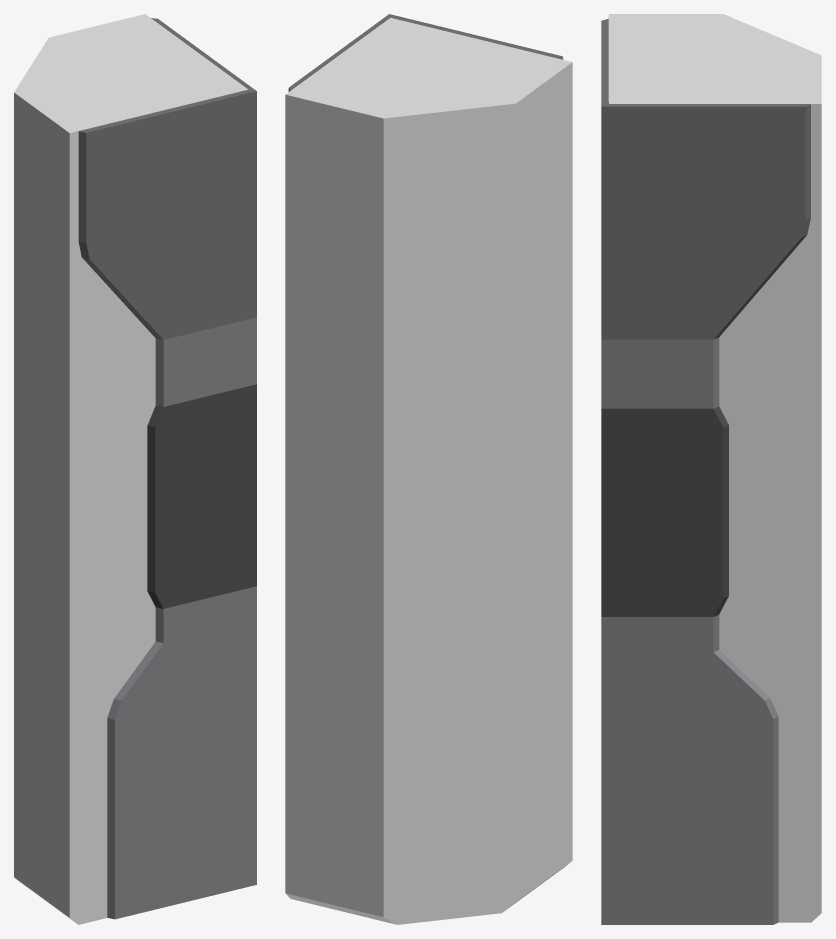
File: SM_Bld_Wall_Corner_Pillar_02.fbx
3 views of the same model, side by side, from view 1: azimuth 30°, elevation 25°; view 2: azimuth 150°, elevation 25°; view 3: azimuth 270°, elevation 25° (orthographic). The views are drawn at different scales.
Visible parts, largest first — view 1: SM_Bld_Wall_Corner_Pillar_02_LOD0, SM_Bld_Wall_Corner_Pillar_02_ConvexHulls; view 2: SM_Bld_Wall_Corner_Pillar_02_ConvexHulls, SM_Bld_Wall_Corner_Pillar_02_LOD0; view 3: SM_Bld_Wall_Corner_Pillar_02_LOD0, SM_Bld_Wall_Corner_Pillar_02_ConvexHulls.
Part boxes in pixels (x1=…): SM_Bld_Wall_Corner_Pillar_02_LOD0: x1=78, y1=18, x2=256, y2=919; SM_Bld_Wall_Corner_Pillar_02_ConvexHulls: x1=14, y1=14, x2=247, y2=924; SM_Bld_Wall_Corner_Pillar_02_ConvexHulls: x1=285, y1=17, x2=572, y2=924; SM_Bld_Wall_Corner_Pillar_02_LOD0: x1=288, y1=14, x2=563, y2=91; SM_Bld_Wall_Corner_Pillar_02_LOD0: x1=601, y1=18, x2=810, y2=924; SM_Bld_Wall_Corner_Pillar_02_ConvexHulls: x1=608, y1=14, x2=821, y2=922.
Size of the model in its own units: 124 by 123 by 509.
Materials: 1 (1 with a texture image).
